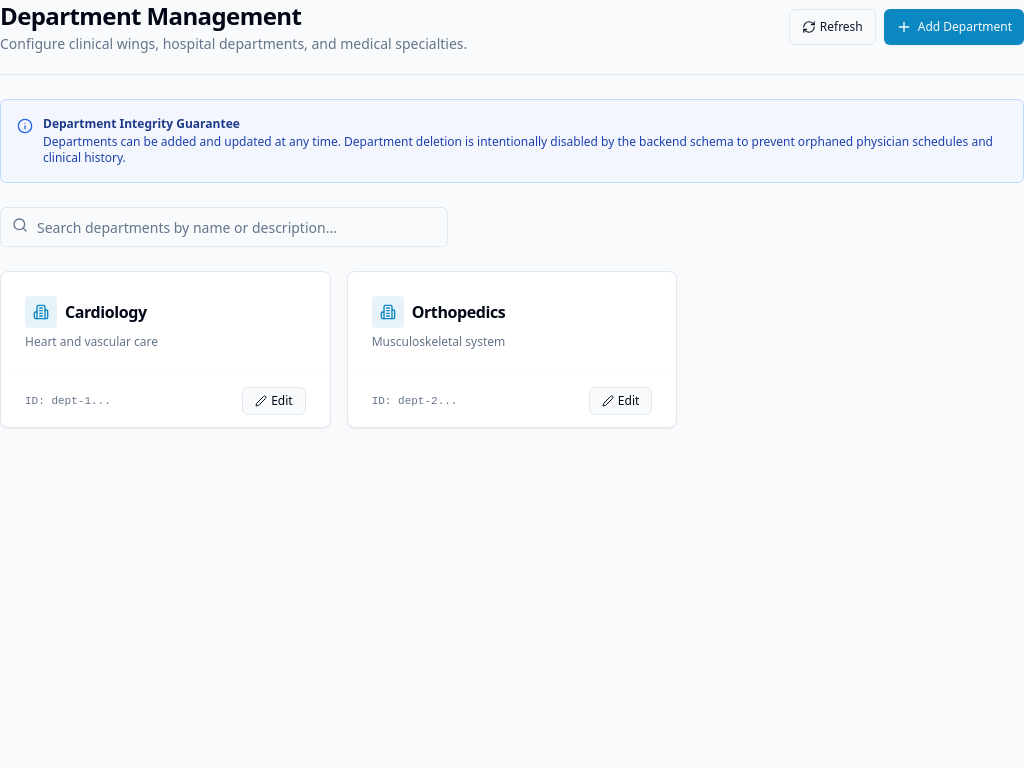
Test: DepartmentsPage Management › opens create modal, validates required name, and rejects < 2 chars
Click the button with aria-label "add new department".
click(954, 27)  # box [884,9,1023,45]
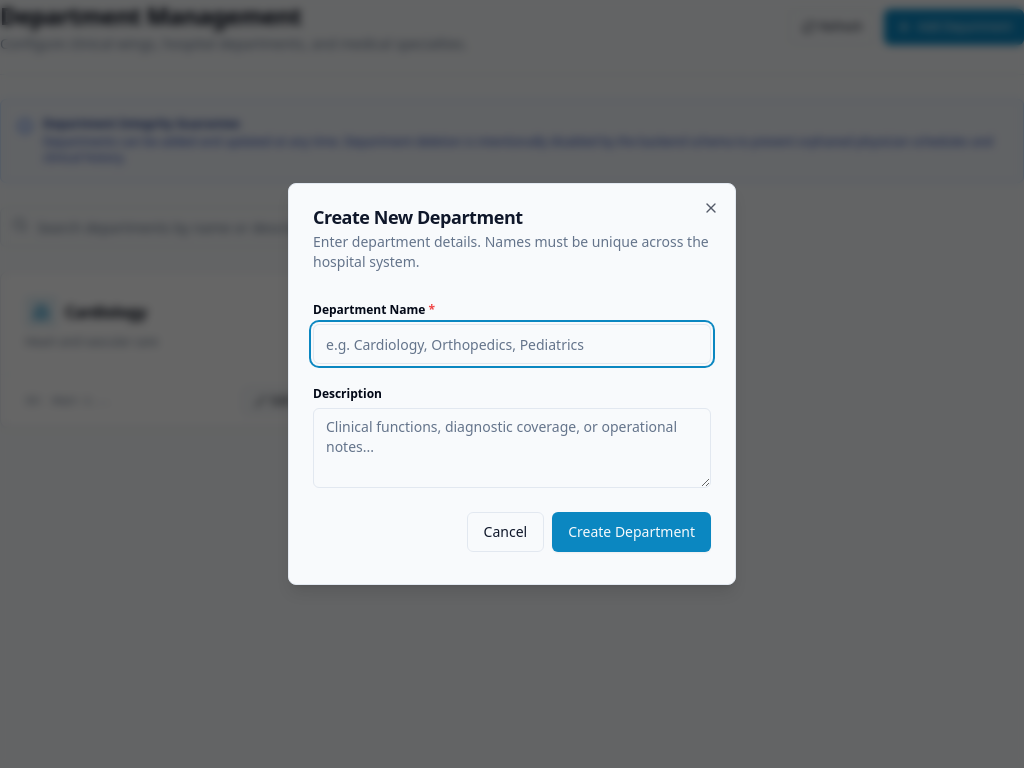
Check: the heading "Create New Department" is shown, box [313,205,523,229]
Type 1 char and submit
Type "A" into the field with placeholder "e.g. Cardiology, Orthopedics, Pediatrics".
click(512, 344); type("A")  # box [313,324,711,364]
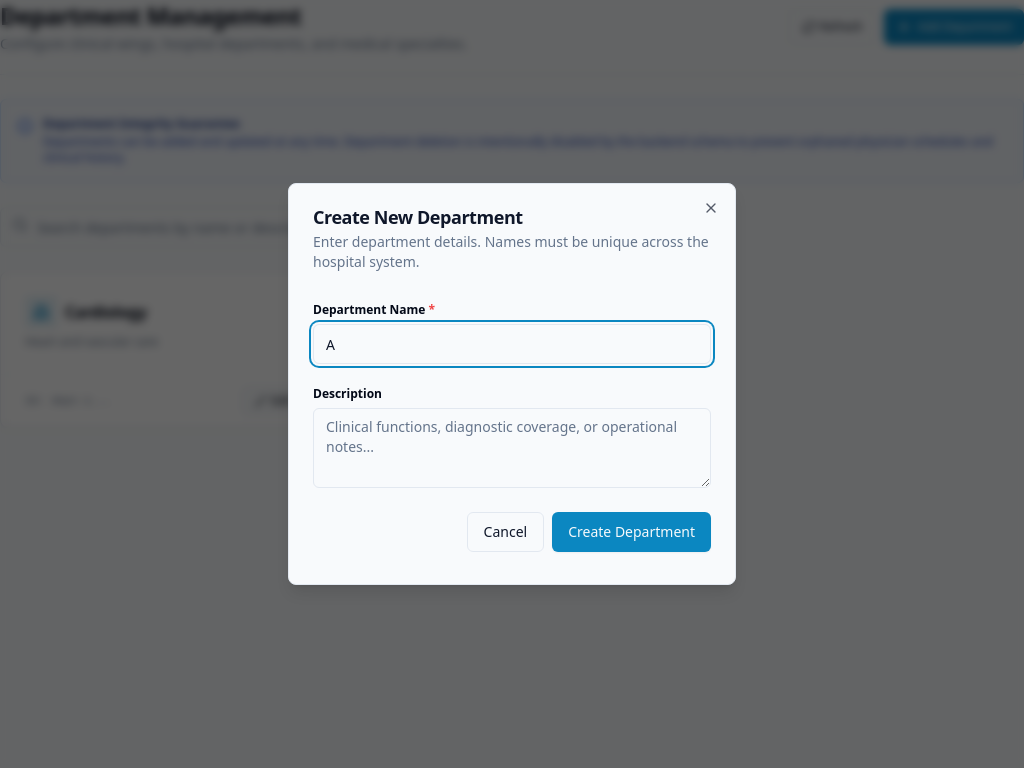
Click the button "Create Department".
click(632, 532)  # box [552,512,711,552]
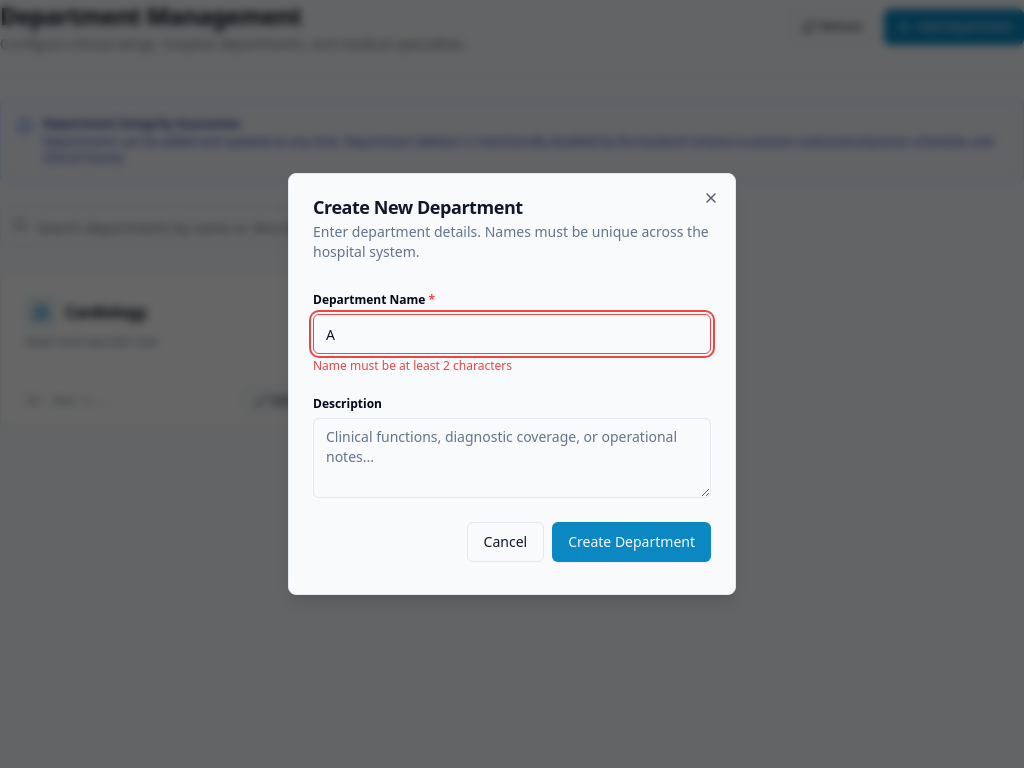
Check: the text "Name must be at least 2 characters" is shown, box [313,357,512,374]
